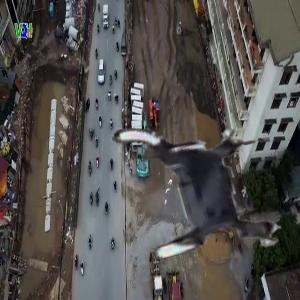drone: (112, 103, 284, 275)
